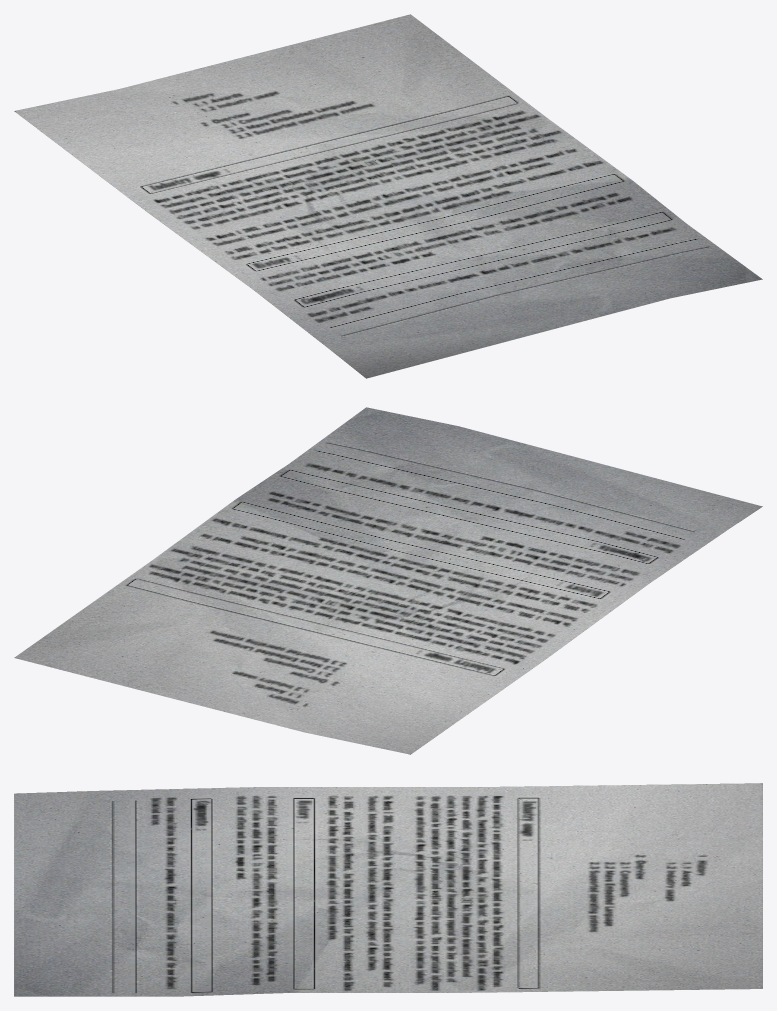
The model's file is 011_report01a.fbx.
3 views of the same model, one above another, from view 1: azimuth 30°, elevation 25°; view 2: azimuth 150°, elevation 25°; view 3: azimuth 270°, elevation 25° (orthographic). The views are drawn at different scales.
Visible parts, largest first — view 1: LOD_1_Group_0_Sub_1__sm74_011_Report01A_A_Mat__Env_default; view 2: LOD_1_Group_0_Sub_1__sm74_011_Report01A_A_Mat__Env_default; view 3: LOD_1_Group_0_Sub_1__sm74_011_Report01A_A_Mat__Env_default.
Part boxes in pixels (x1,y1,x2,y2): LOD_1_Group_0_Sub_1__sm74_011_Report01A_A_Mat__Env_default: [14, 14, 762, 378]; LOD_1_Group_0_Sub_1__sm74_011_Report01A_A_Mat__Env_default: [14, 407, 762, 754]; LOD_1_Group_0_Sub_1__sm74_011_Report01A_A_Mat__Env_default: [14, 783, 762, 996].
Bounding box in the file's own units: 0.2275 × 0.00533 × 0.35.
